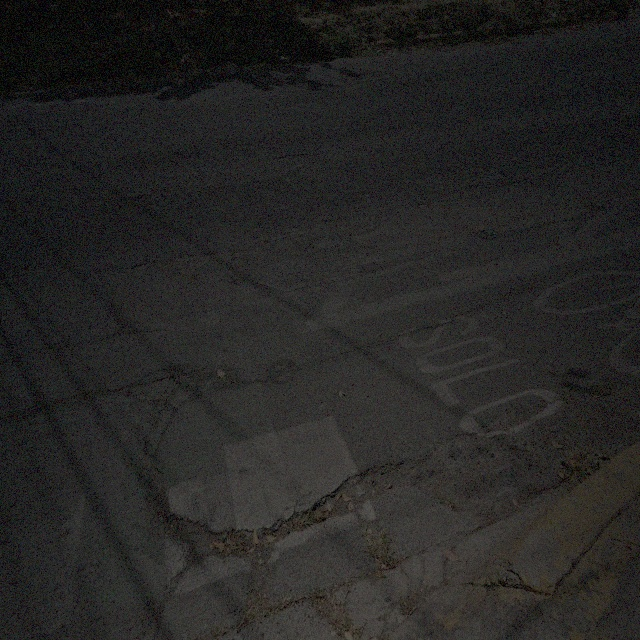pothole: (266, 464, 410, 555), (182, 522, 278, 588), (317, 460, 405, 522), (417, 432, 474, 489), (142, 454, 176, 548), (172, 363, 244, 394), (129, 370, 185, 409), (307, 588, 350, 633), (162, 248, 212, 280), (420, 176, 502, 184), (134, 261, 162, 274), (361, 249, 382, 258), (513, 175, 531, 185), (288, 228, 307, 236)
